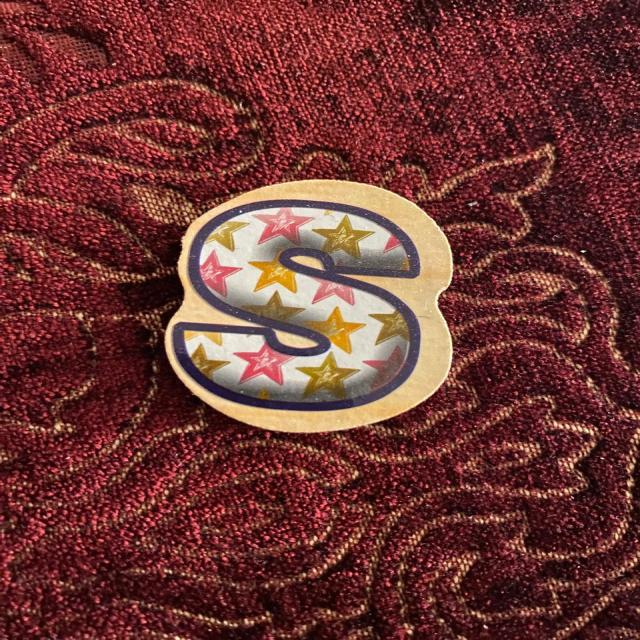S: (165, 180, 451, 433)
